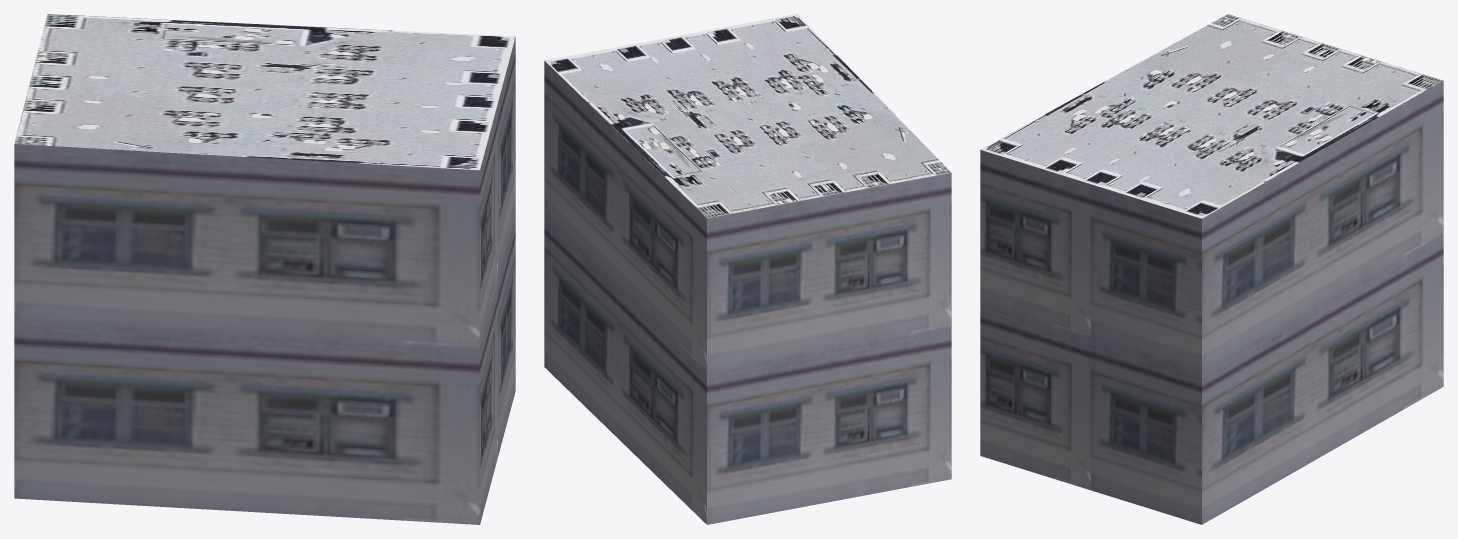
The model's file is ResTex__3663.fbx.
The picture shows the model from 3 angles, left to right: view 1: azimuth 30°, elevation 25°; view 2: azimuth 150°, elevation 25°; view 3: azimuth 270°, elevation 25°; orthographic projection. The views are drawn at different scales.
Visible parts, largest first — view 1: CityEngineMaterial_1_m, CityEngineMaterial_m; view 2: CityEngineMaterial_1_m, CityEngineMaterial_m; view 3: CityEngineMaterial_1_m, CityEngineMaterial_m.
Part boxes in pixels (x1,y1,x2,y2): CityEngineMaterial_1_m: (14,37,515,524); CityEngineMaterial_m: (14,14,515,170); CityEngineMaterial_1_m: (544,61,951,524); CityEngineMaterial_m: (545,14,951,218); CityEngineMaterial_1_m: (980,81,1443,524); CityEngineMaterial_m: (980,14,1443,218).
Bounding box in the file's own units: 8.61 × 6 × 8.23.
2 materials, 2 textured.
